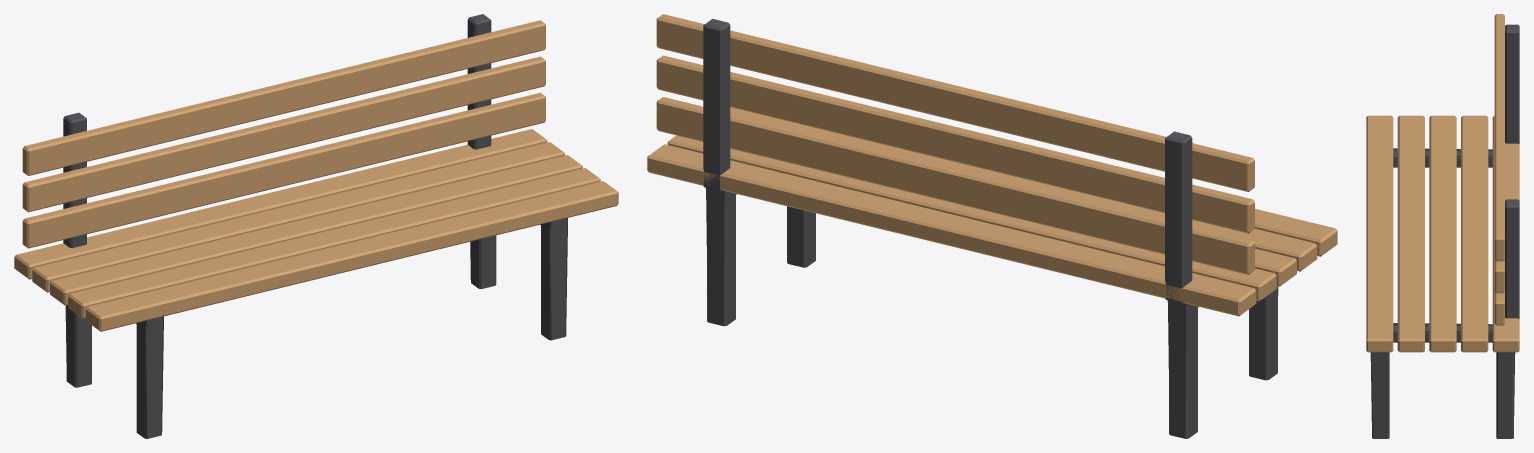
File: bola_bench.glb
The picture shows the model from 3 angles, left to right: view 1: azimuth 30°, elevation 25°; view 2: azimuth 150°, elevation 25°; view 3: azimuth 270°, elevation 25°; orthographic projection. The views are drawn at different scales.
Parts seen in each view (by area): view 1: nmg_bench; view 2: nmg_bench; view 3: nmg_bench.
Part boxes in pixels (left/top/right/bottom): nmg_bench: left=14, top=14, right=618, bottom=438; nmg_bench: left=647, top=14, right=1337, bottom=438; nmg_bench: left=1366, top=14, right=1519, bottom=438.
Bounding box in the file's own units: 1.8 × 0.87 × 0.5199.
